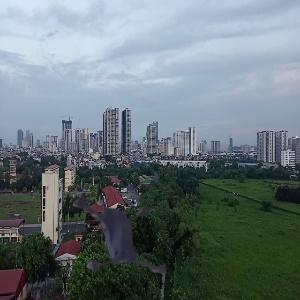drone: (40, 169, 167, 296)
